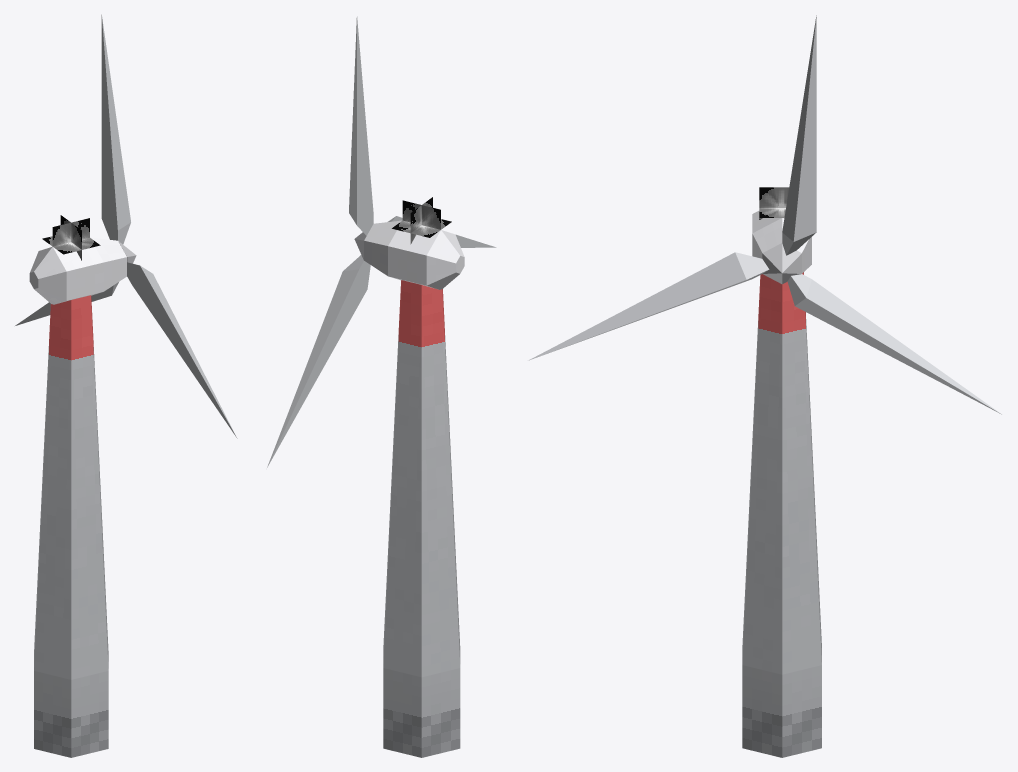
Rendered from pmgwindturbine.obj.
3 renders of one model, left to right at view 1: azimuth 30°, elevation 25°; view 2: azimuth 150°, elevation 25°; view 3: azimuth 270°, elevation 25°, orthographic. The views are drawn at different scales.
Visible parts, largest first — view 1: main, rot, halo; view 2: main, rot, halo; view 3: main, rot, halo.
Part boxes in pixels (<box>): main: <box>29,237,126,757</box>; rot: <box>15,14,237,438</box>; halo: <box>42,215,100,260</box>; main: <box>364,220,464,757</box>; rot: <box>267,16,496,467</box>; halo: <box>392,197,451,244</box>; main: <box>742,211,821,757</box>; rot: <box>528,15,1002,414</box>; halo: <box>759,187,789,219</box>.
Size of the model in its own units: 0.6875 by 4.5 by 2.6.
Materials: 2 (2 with a texture image).
